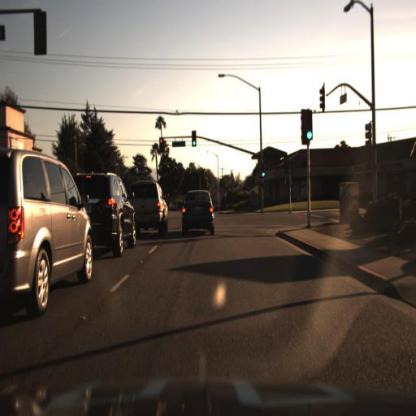car: (1, 150, 95, 323), (93, 168, 141, 266), (179, 180, 220, 242), (138, 176, 172, 244)
trafficLight-Green: (302, 107, 314, 148), (304, 119, 316, 148), (191, 129, 199, 152), (261, 165, 269, 184)
trafficLight-RedLeft: (159, 135, 167, 156)
